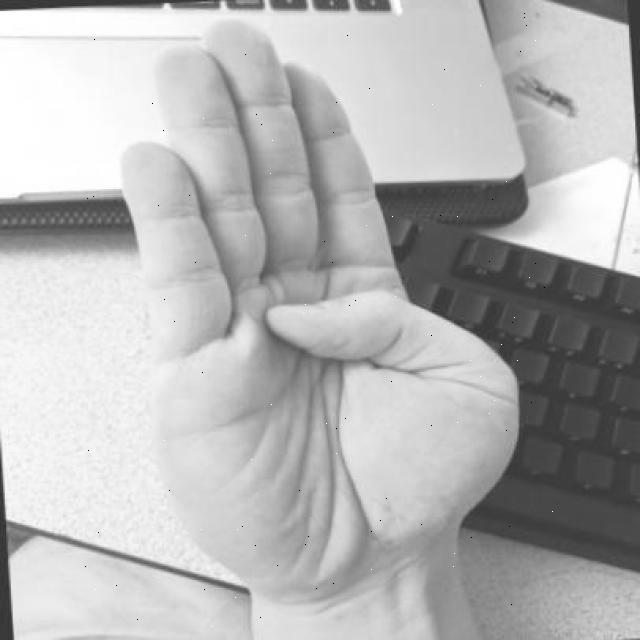B: (83, 0, 555, 629)
